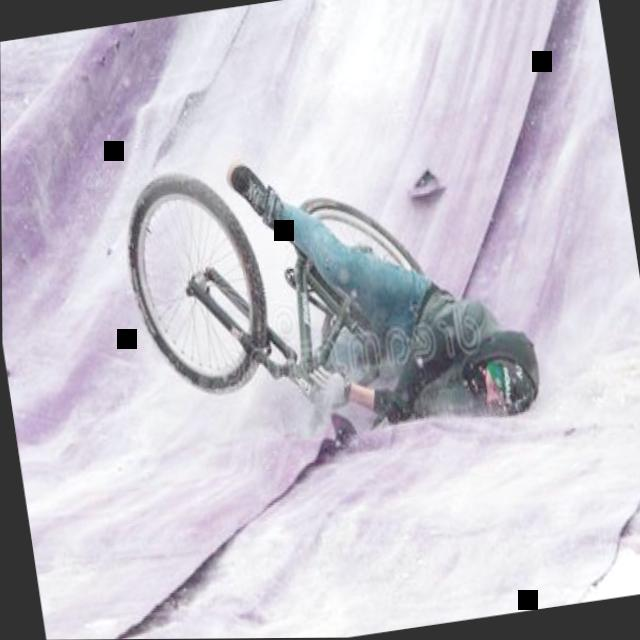Fall-Detected: (191, 99, 566, 484)
